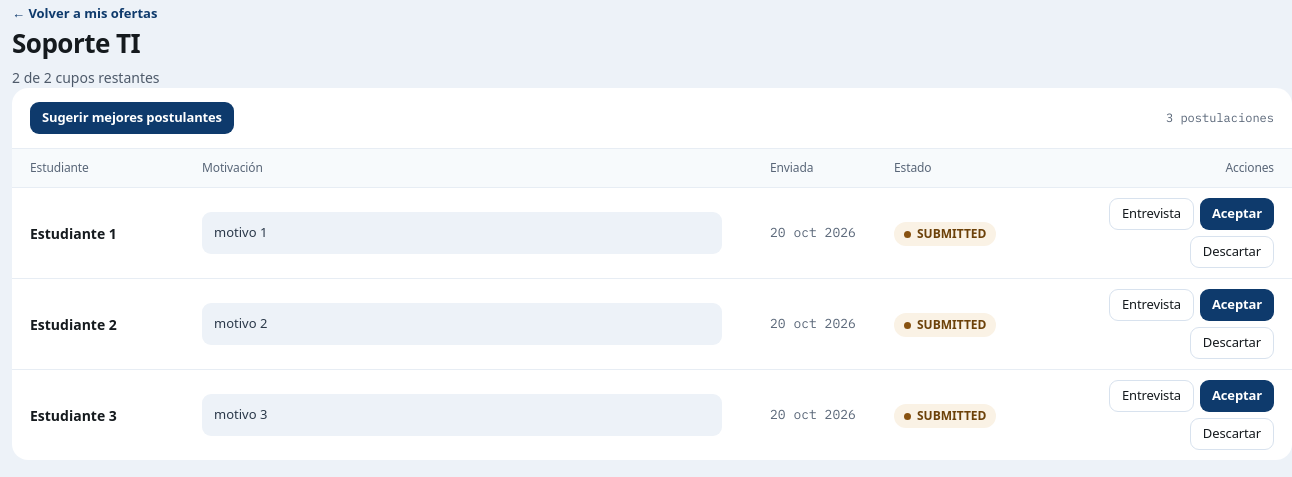
it: OfferApplicationsPage · sugerir mejores postulantes (IA-02) › si falla ({"statusCode":503,"name":"ApiError"}) muestra el mensaje y deja la lista intacta
What coordinates should you click on to do the following:
click the button "Sugerir mejores postulantes"
I would click on:
 (132, 118)
Its box is [30,102,234,134].
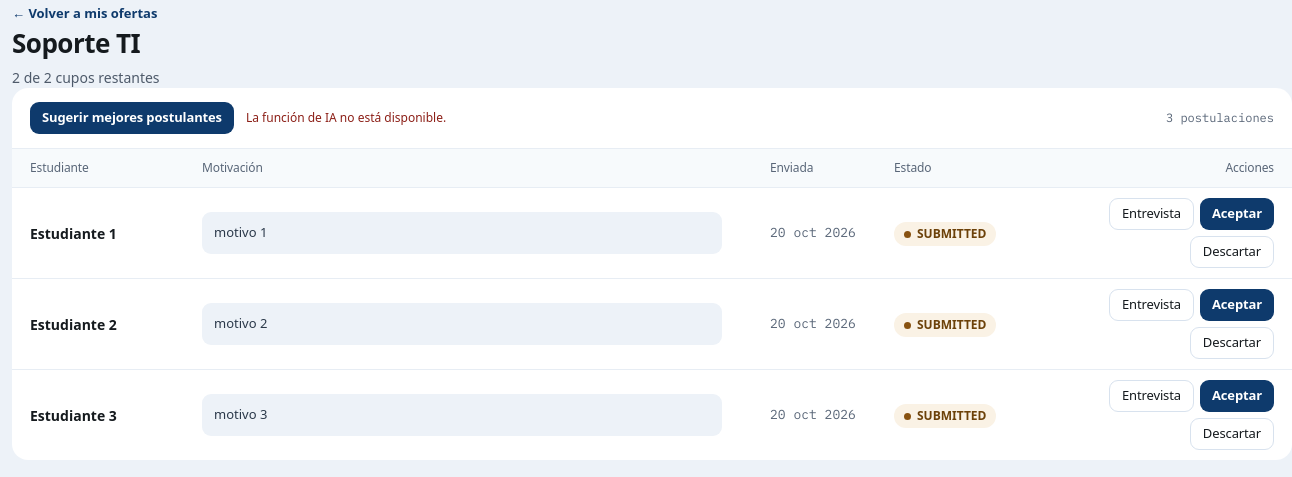
expect the message reads "La función de IA no está disponible.": met, box [246,109,446,126]
